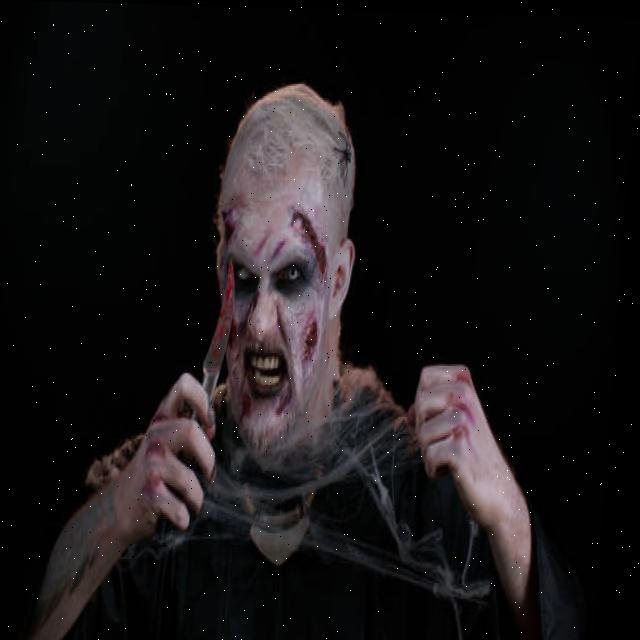Zombie: (202, 97, 371, 454)
